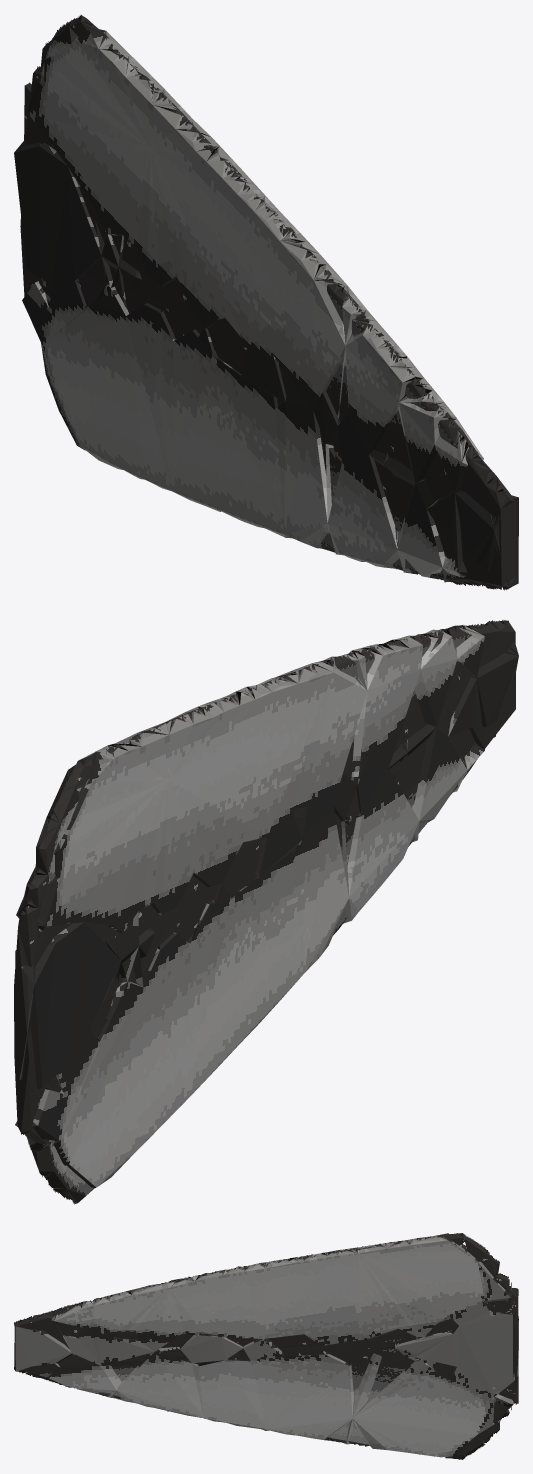
The model's file is tower-shield.glb.
The picture shows the model from 3 angles, top to bottom: view 1: azimuth 30°, elevation 25°; view 2: azimuth 150°, elevation 25°; view 3: azimuth 270°, elevation 25°; orthographic projection. The views are drawn at different scales.
Parts seen in each view (by area): view 1: plate, face; view 2: plate, face; view 3: plate, face.
Part boxes in pixels (box(x1,y1,x2,y2)): plate: box(14, 28, 518, 587); face: box(20, 15, 516, 590); plate: box(15, 620, 518, 1188); face: box(14, 620, 515, 1204); plate: box(14, 1233, 518, 1457); face: box(14, 1233, 518, 1459).
Bounding box in the file's own units: 0.0403 × 0.6201 × 1.25.
2 materials, 2 textured.
